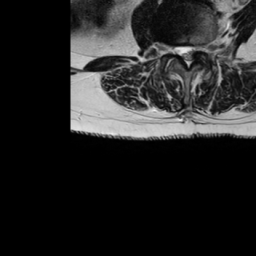CCS_normal: (183, 38, 190, 73)
LFS_stenosis: (197, 38, 204, 56)
LLS_stenosis: (190, 39, 197, 60)
RFS_normal: (167, 39, 175, 59)
RLS_normal: (175, 39, 182, 62)
